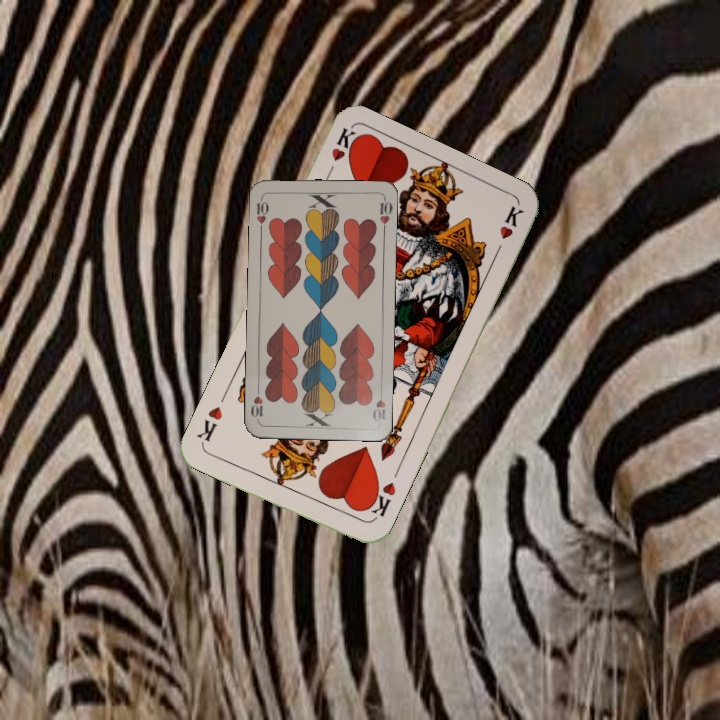H10: (252, 193, 271, 234), (369, 384, 388, 424)
HK: (321, 124, 361, 182), (361, 476, 399, 524)
